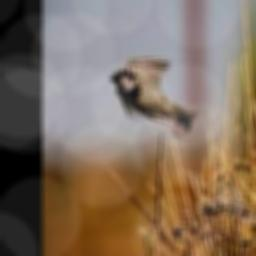Sparrow: (110, 56, 198, 140)
